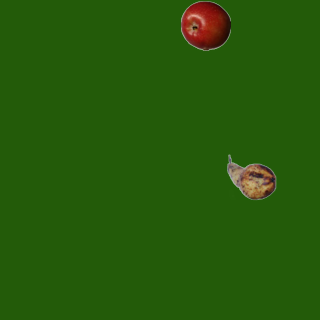Apple Braeburn: (180, 0, 230, 50)
Pear Abate: (226, 152, 276, 202)
